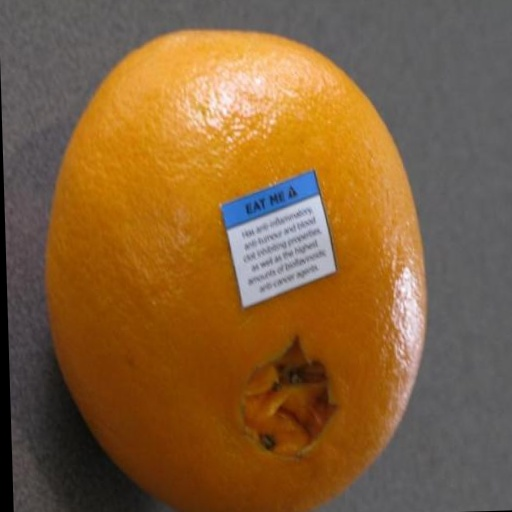fruit: (47, 31, 425, 512)
